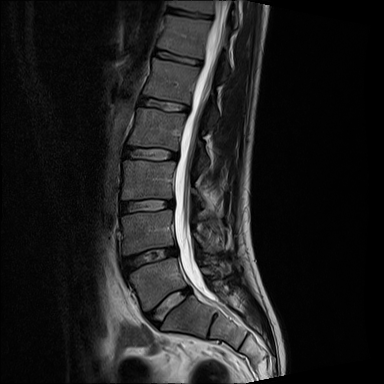Degenerative Disc Disease (DDD): (149, 43, 207, 70), (158, 6, 220, 26)
Lumbar Disc Bulge (LDB): (118, 238, 186, 281)
Normal IVD: (137, 279, 193, 333), (113, 188, 177, 220), (116, 139, 182, 166), (133, 90, 193, 116)
